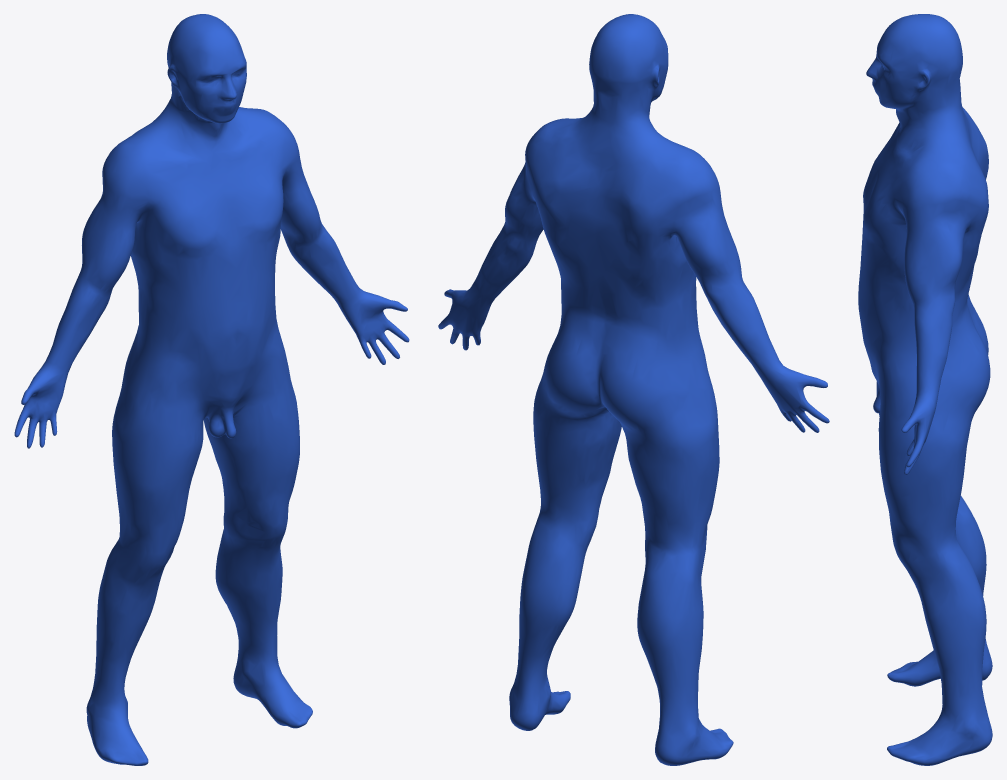
Rendered from skin.glb.
3 views of the same model, side by side, from view 1: azimuth 30°, elevation 25°; view 2: azimuth 150°, elevation 25°; view 3: azimuth 270°, elevation 25° (orthographic). The views are drawn at different scales.
Parts seen in each view (by area): view 1: VH_M_skin; view 2: VH_M_skin; view 3: VH_M_skin.
Part boxes in pixels (x1,y1,x2,y2): VH_M_skin: [14, 14, 409, 765]; VH_M_skin: [438, 14, 829, 765]; VH_M_skin: [858, 14, 992, 765].
Bounding box in the file's own units: 1.05 × 1.83 × 0.316.
